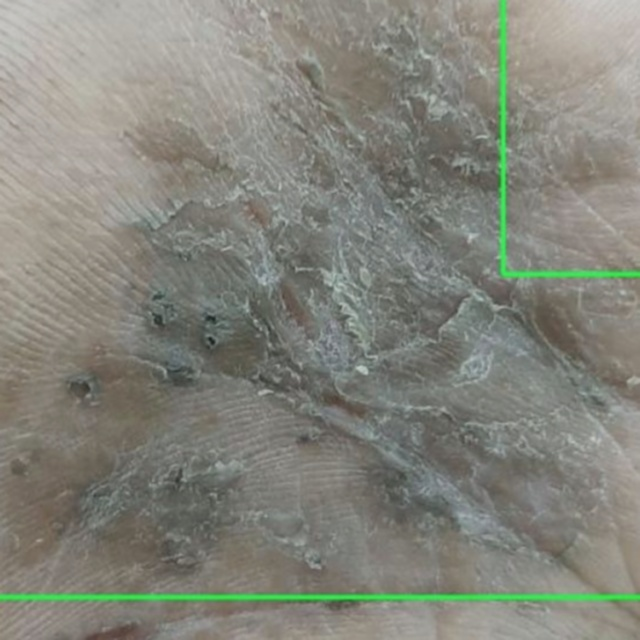Eczema: (503, 0, 639, 274)
